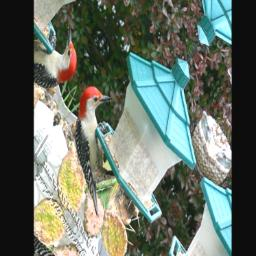Woodpecker: (54, 70, 140, 218)
